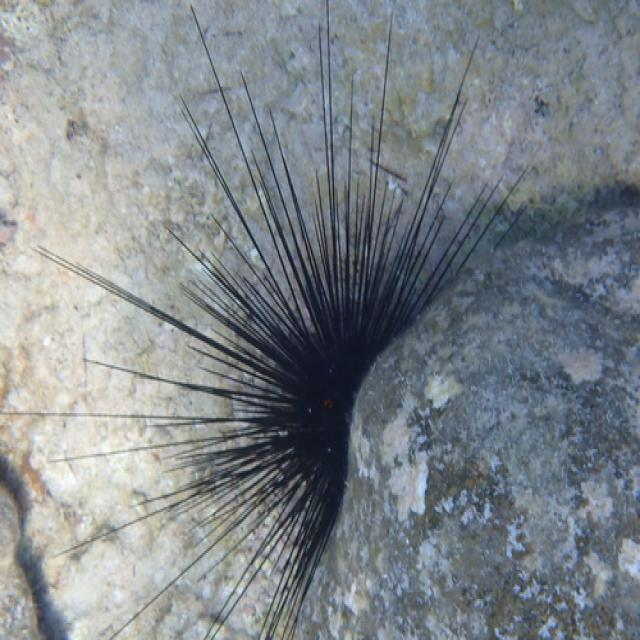Urchin: (1, 2, 531, 638)
